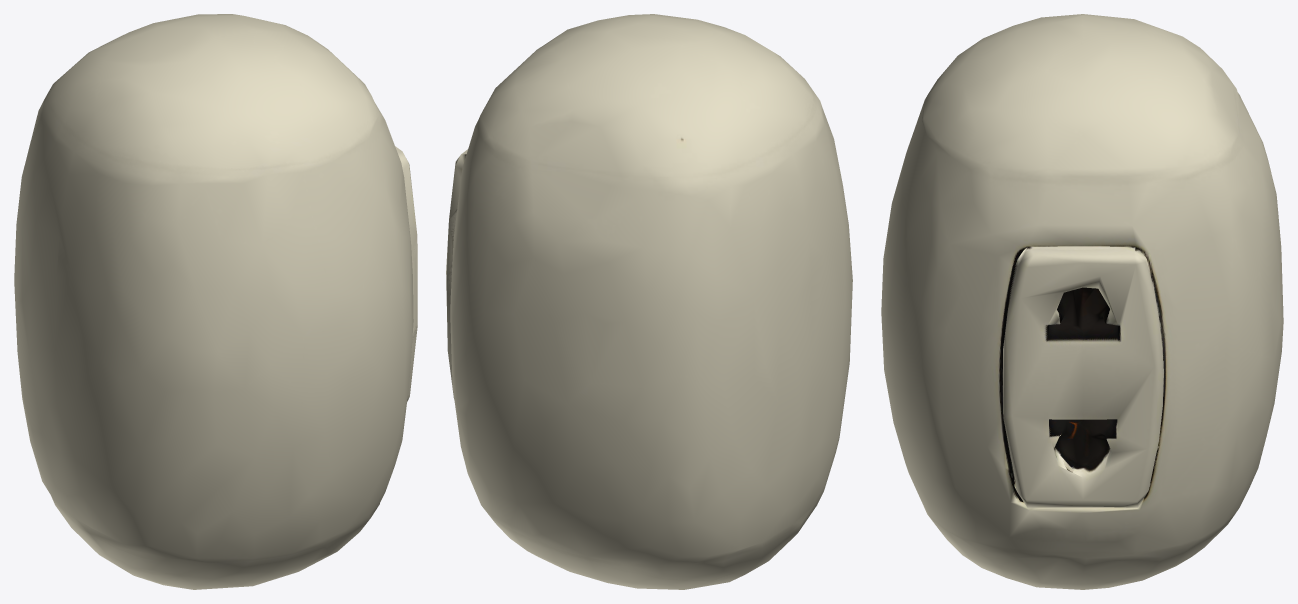
The model's file is wall+outlet+3d+model.fbx.
3 views of the same model, side by side, from view 1: azimuth 30°, elevation 25°; view 2: azimuth 150°, elevation 25°; view 3: azimuth 270°, elevation 25° (orthographic).
Parts seen in each view (by area): view 1: tripo_node_db8b23b2; view 2: tripo_node_db8b23b2; view 3: tripo_node_db8b23b2.
Boxes of the visible parts, x1=… form: tripo_node_db8b23b2: x1=14, y1=14, x2=417, y2=589; tripo_node_db8b23b2: x1=446, y1=14, x2=852, y2=589; tripo_node_db8b23b2: x1=881, y1=14, x2=1283, y2=589.
Bounding box in the file's own units: 0.6487 × 1 × 0.6902.
Materials: 1 (1 with a texture image).
